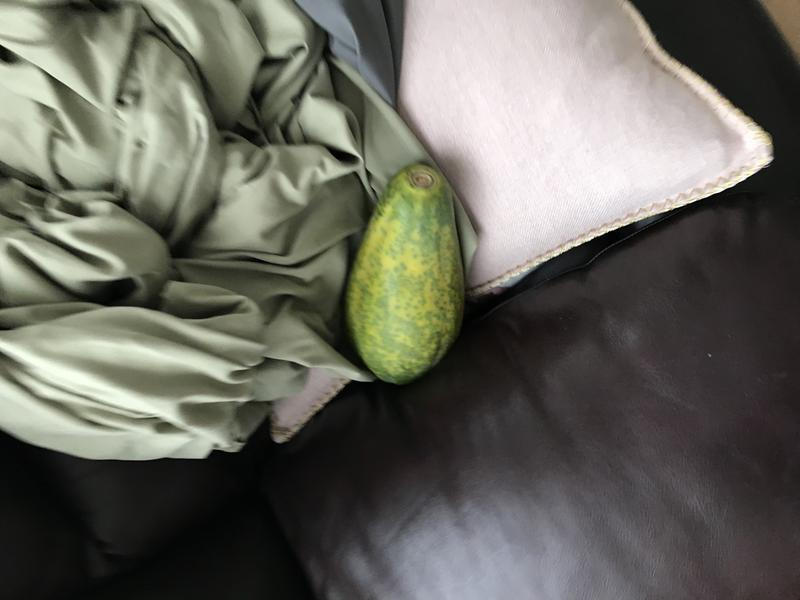papaya: (339, 147, 469, 394)
